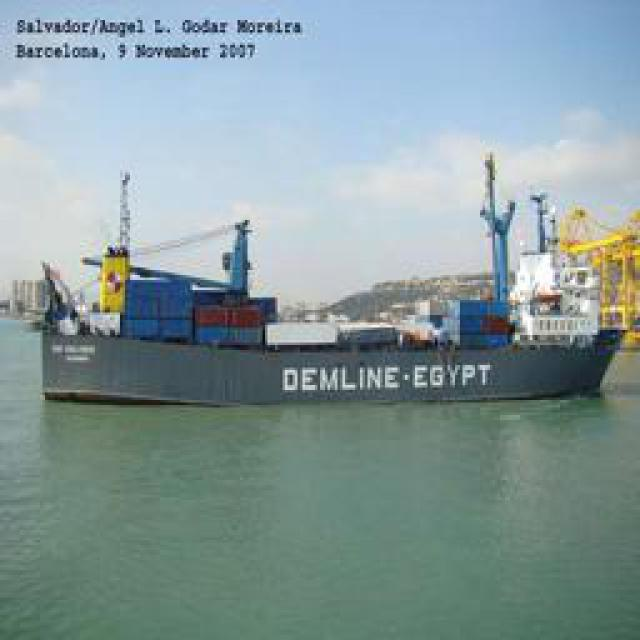Ship: (30, 168, 633, 403)
